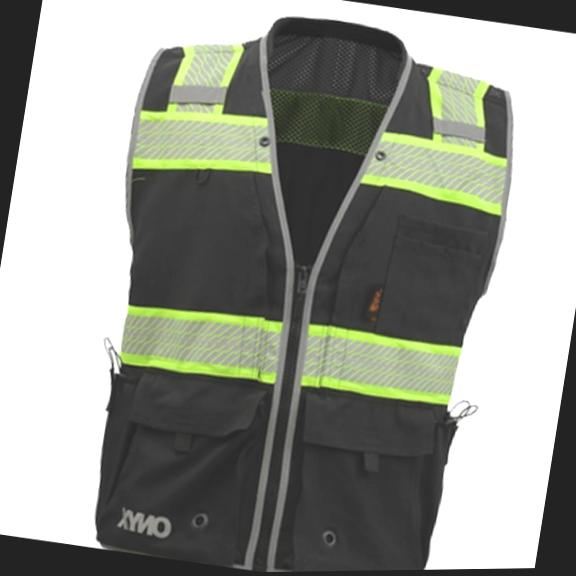safety_vest: (64, 0, 534, 575)
